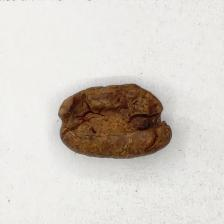NG: (59, 88, 167, 152)
